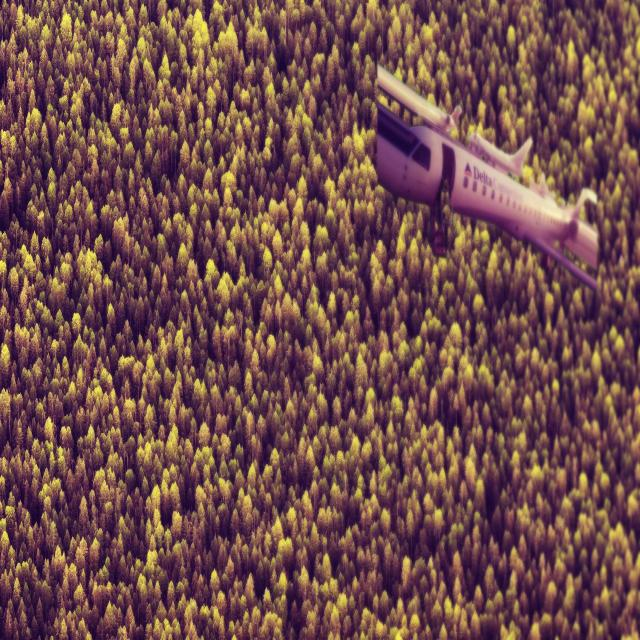airplane: (374, 62, 599, 292)
